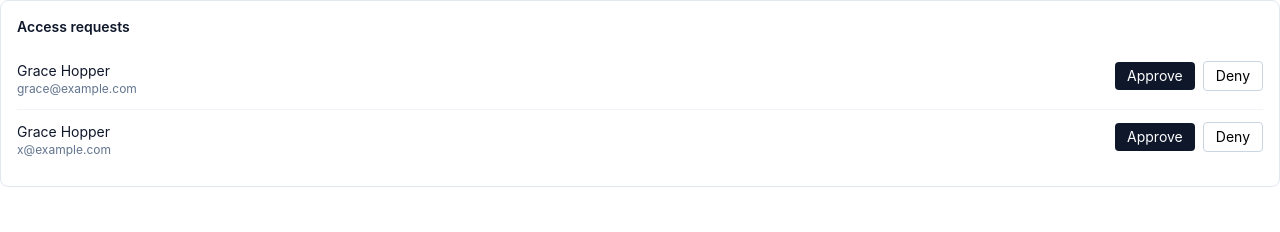
Test: AccessRequestsPanel › keeps a refused decision next to the row that caused it
This screenshot has width=1280, height=232.
What coordinates should you click on to do the following:
click the button with test id "request-approve-10"
I would click on:
 (1155, 76)
Its box is 1115,62 -> 1195,90.
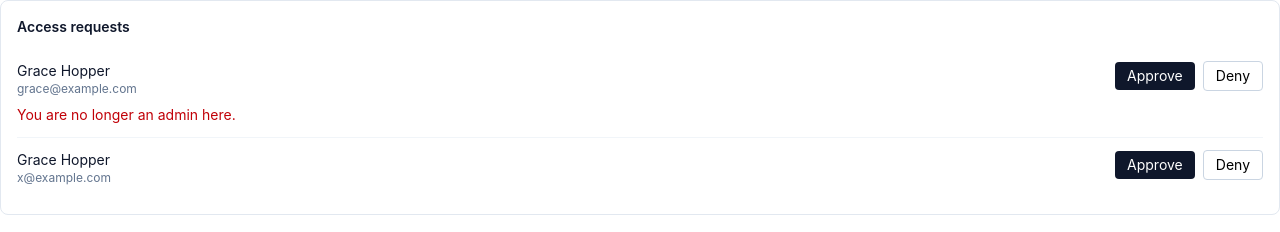
Expected: the list item with test id "request-10" is shown, 17,49 -> 1263,138
Expected: the message with test id "request-error-10" reads "You are no longer an admin here.", 17,106 -> 236,123
